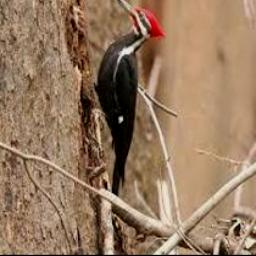Woodpecker: (95, 0, 166, 197)
